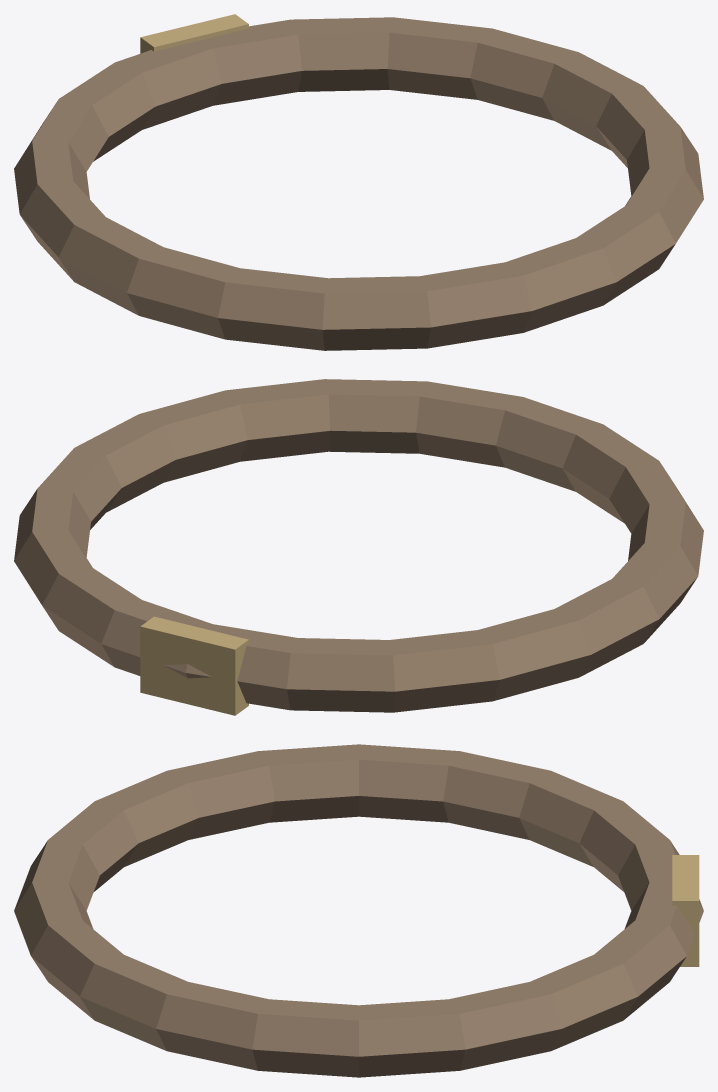
File: EQ-BELT.glb
The picture shows the model from 3 angles, top to bottom: view 1: azimuth 30°, elevation 25°; view 2: azimuth 150°, elevation 25°; view 3: azimuth 270°, elevation 25°; orthographic projection.
Visible parts, largest first — view 1: belt, buckle; view 2: belt, buckle; view 3: belt, buckle.
Part boxes in pixels (left/top/right/bottom): belt: left=14, top=17, right=703, bottom=350; buckle: left=140, top=14, right=248, bottom=53; belt: left=14, top=379, right=703, bottom=712; buckle: left=140, top=616, right=248, bottom=715; belt: left=14, top=744, right=703, bottom=1077; buckle: left=672, top=855, right=699, bottom=966.
Size of the model in its own units: 0.38 by 0.04 by 0.38.
